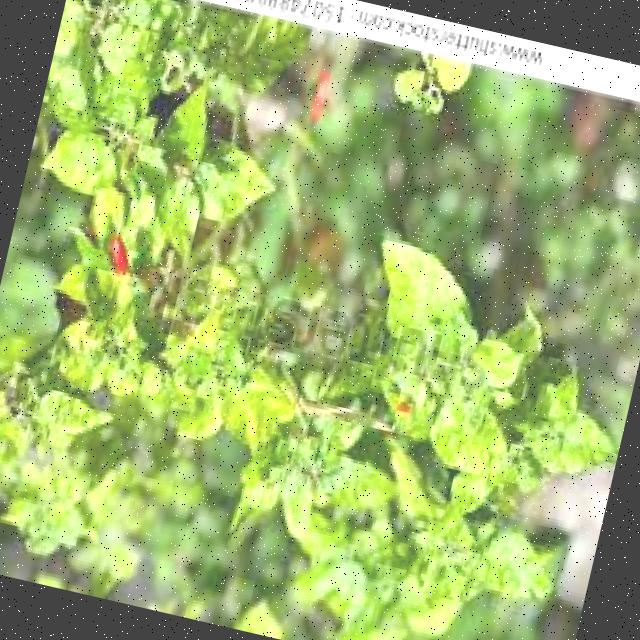leaf curl: (177, 376, 596, 640)
